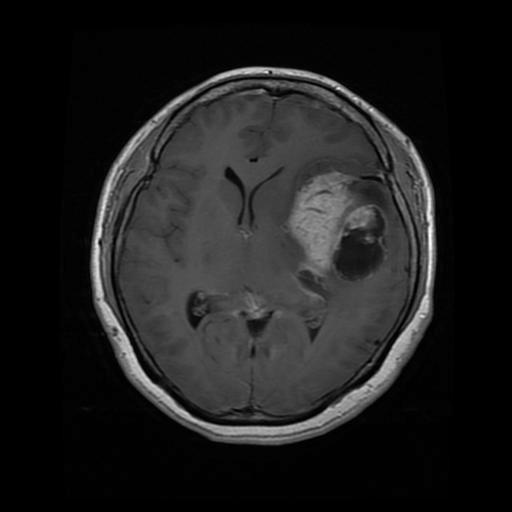Tumour-Pituitary: (274, 148, 371, 286)
